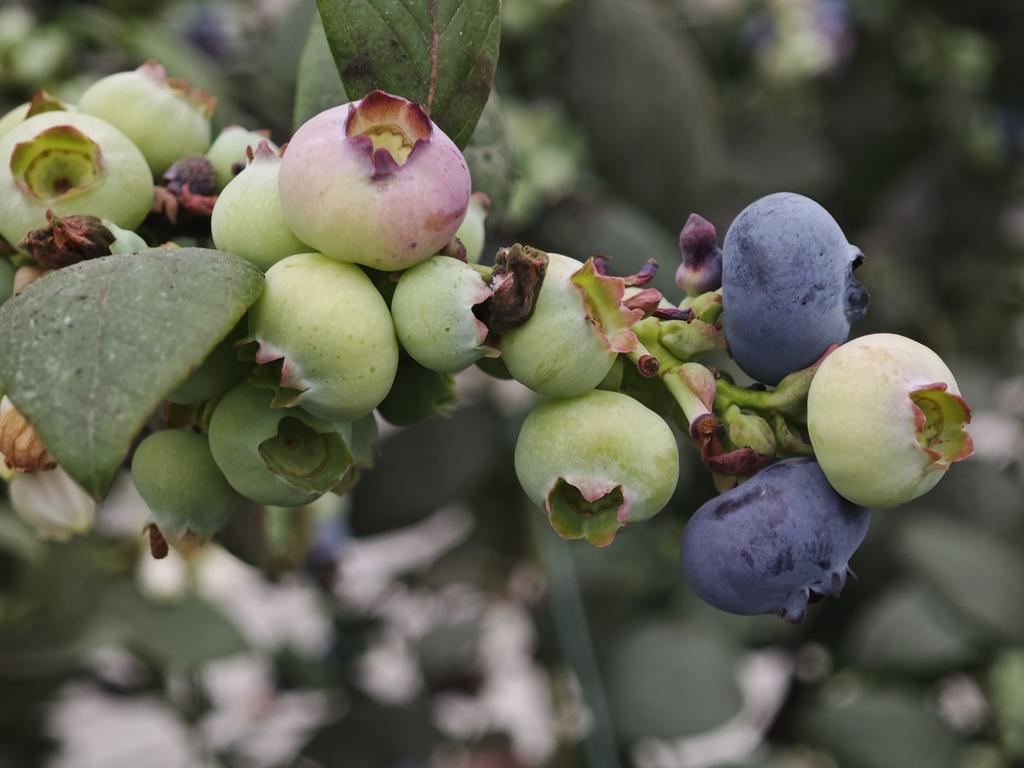RipeBlueBerry: (668, 448, 891, 640), (804, 338, 984, 524), (718, 193, 872, 399)
Semi-RipeBlueBerry: (284, 86, 476, 264), (244, 246, 412, 441), (516, 387, 683, 564)
